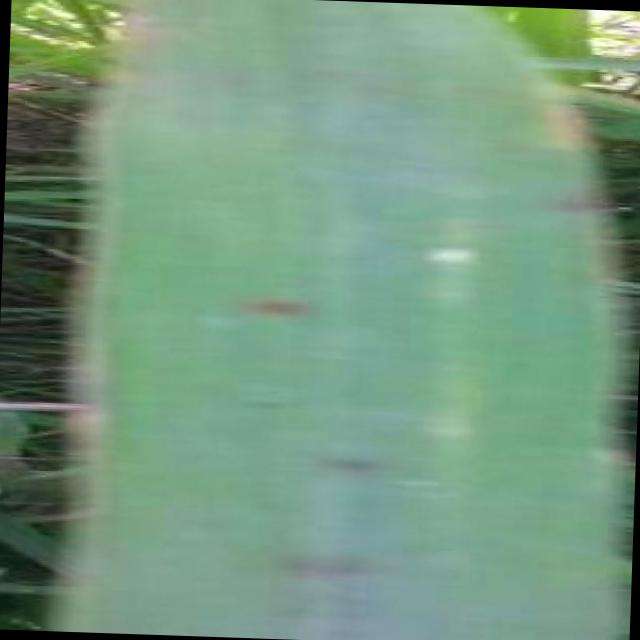Rice_Brownspot: (264, 534, 386, 589), (228, 270, 324, 333), (407, 222, 488, 280), (312, 432, 393, 487), (539, 173, 601, 230)
